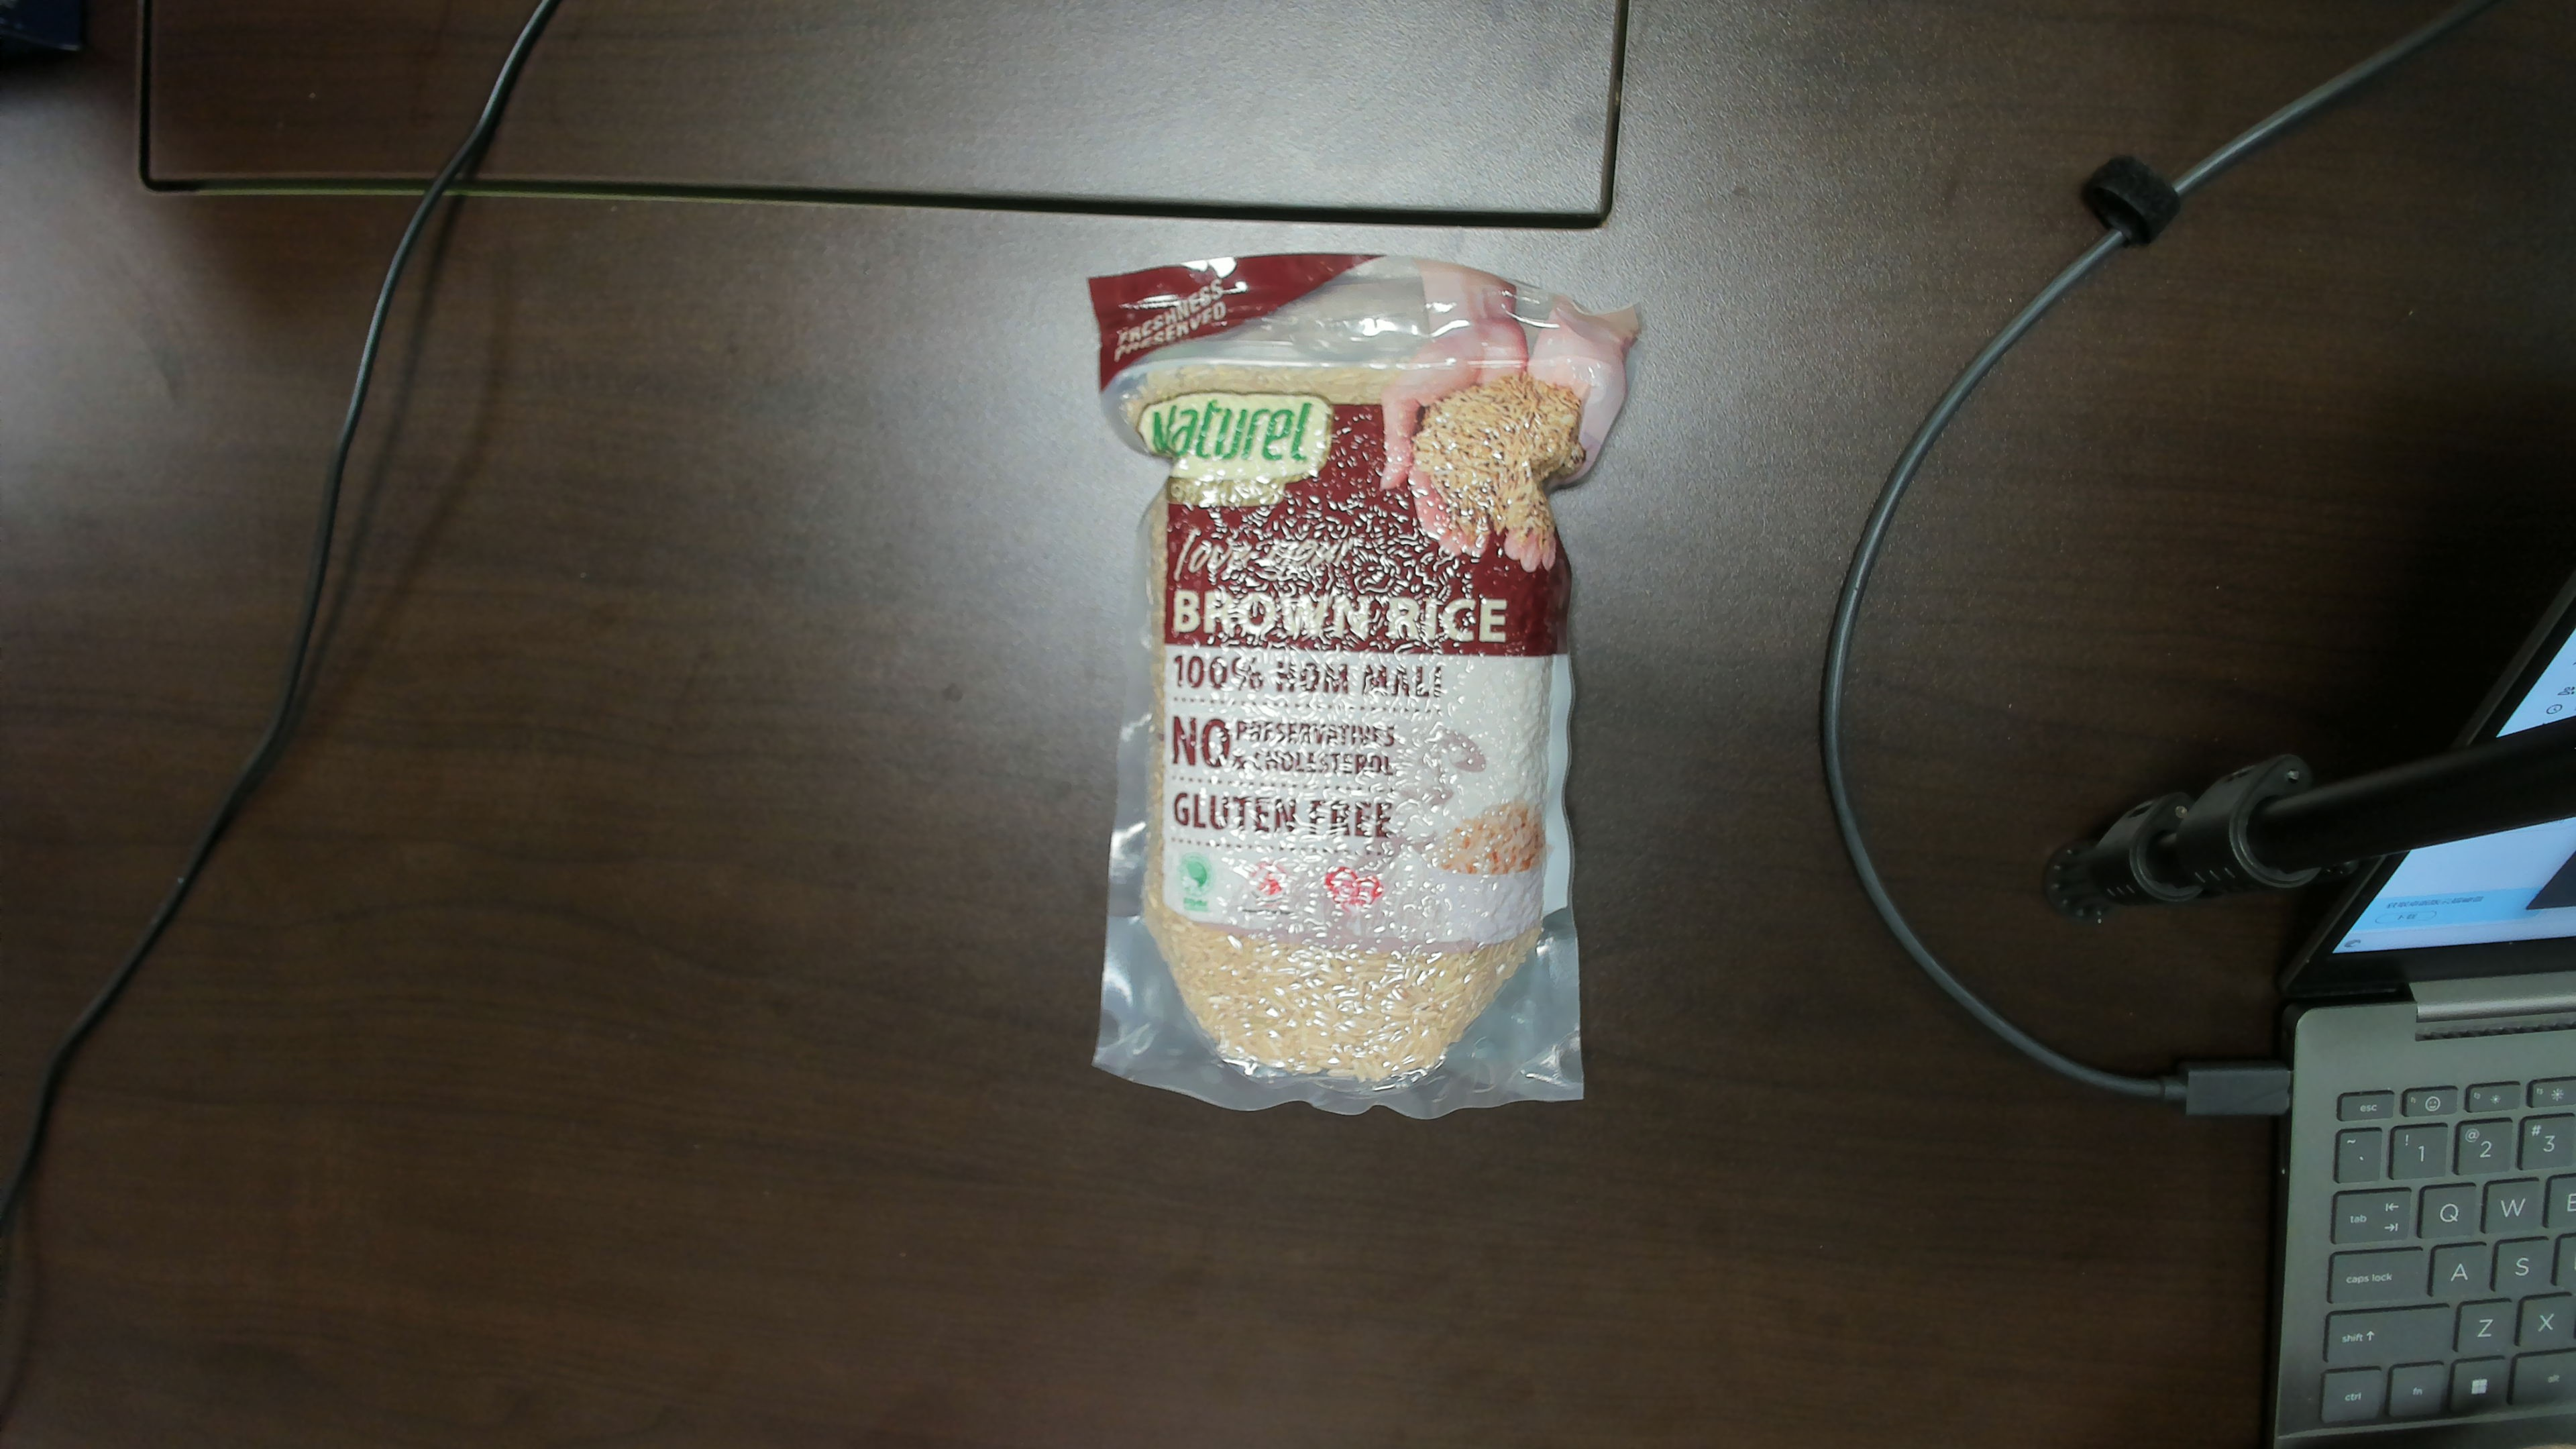Rice(brown-others)_700-799g_NonHalal_Healthy: (1116, 269, 1562, 1097)
